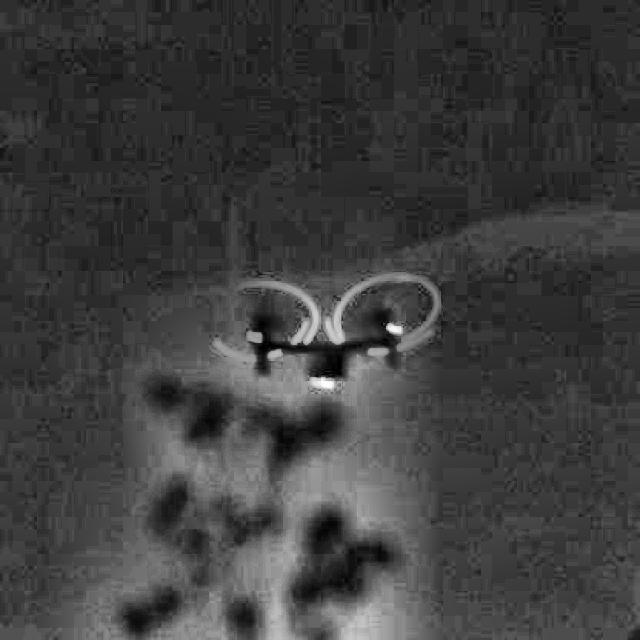V22: (213, 272, 441, 392)
